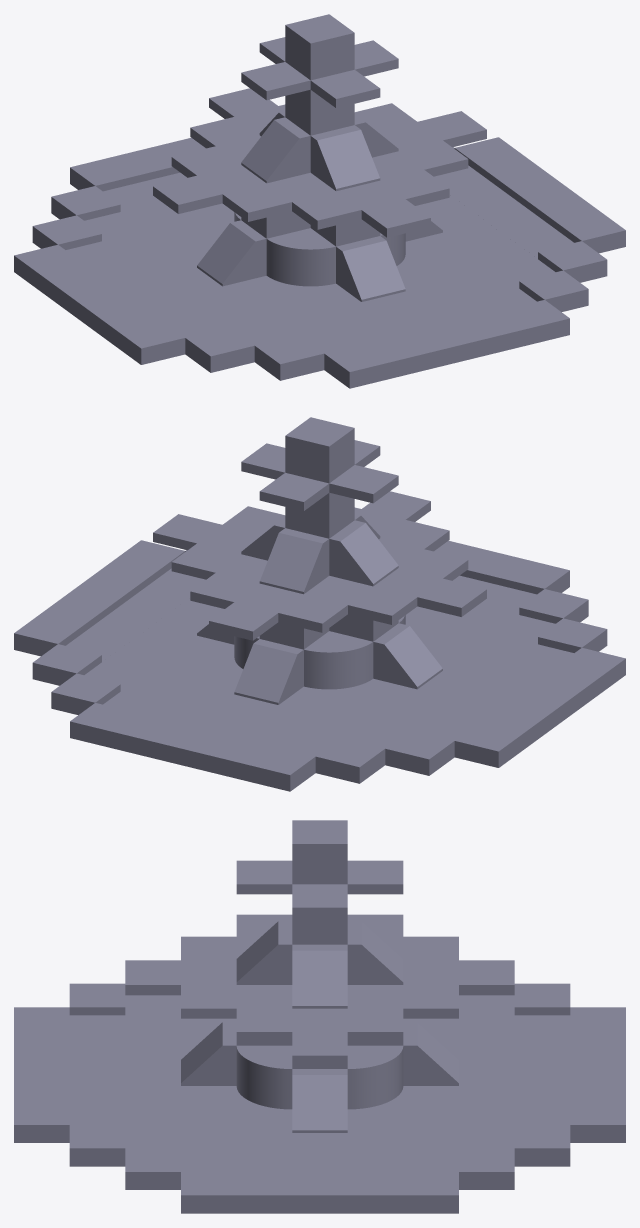
Rendered from Fountain.fbx.
The picture shows the model from 3 angles, top to bottom: view 1: azimuth 30°, elevation 25°; view 2: azimuth 150°, elevation 25°; view 3: azimuth 270°, elevation 25°; orthographic projection. The views are drawn at different scales.
Visible parts, largest first — view 1: block (×91), block_corner_large (×5), block_corner_round_large; view 2: block (×91), block_corner_large (×5), block_corner_round_large; view 3: block (×84), block_corner_large (×6), block_corner_round_large (×2).
Boxes of the visible parts, left/top/right/bottom form: block (×91): left=14, top=14, right=625, bottom=388; block_corner_large (×5): left=197, top=114, right=405, bottom=301; block_corner_round_large: left=266, top=228, right=335, bottom=286; block (×91): left=14, top=417, right=625, bottom=791; block_corner_large (×5): left=234, top=517, right=442, bottom=704; block_corner_round_large: left=304, top=631, right=373, bottom=689; block (×84): left=14, top=820, right=625, bottom=1213; block_corner_large (×6): left=181, top=921, right=458, bottom=1132; block_corner_round_large (×2): left=236, top=1045, right=403, bottom=1109.
Bounding box in the file's own units: 31.19 × 14.18 × 31.19.
